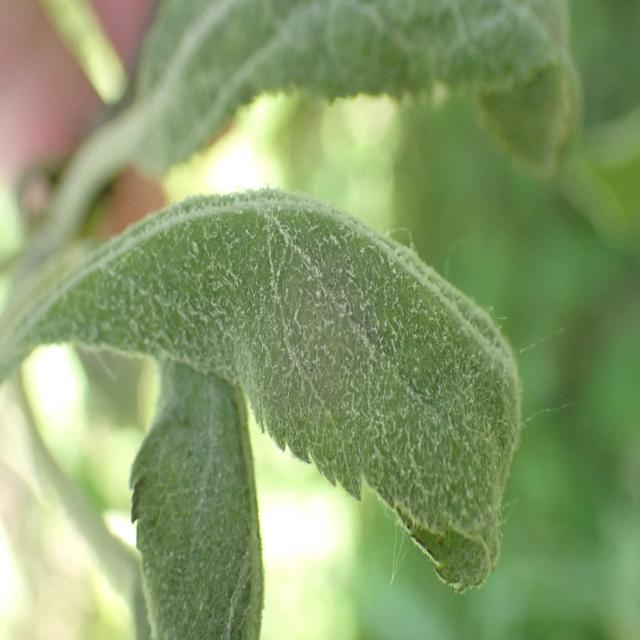Powdery_mildew: (36, 172, 545, 589), (120, 0, 594, 203), (105, 322, 294, 640)
